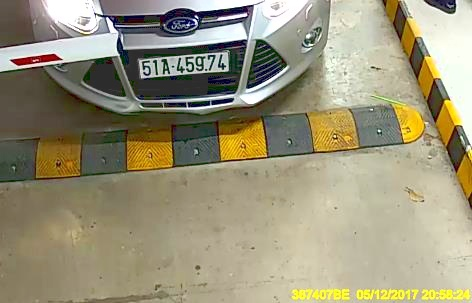plate: (136, 49, 232, 77)
